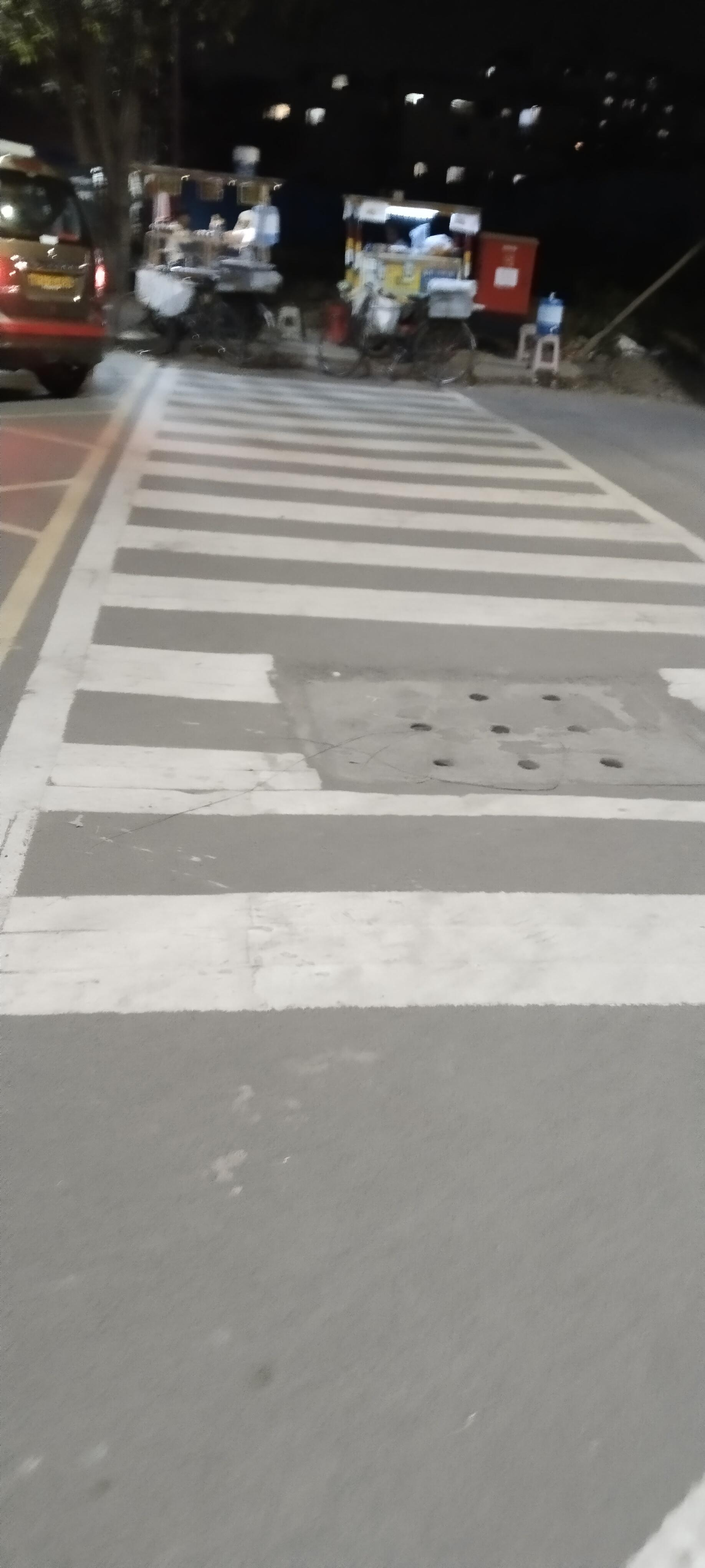crosswalk: (0, 360, 705, 1027)
